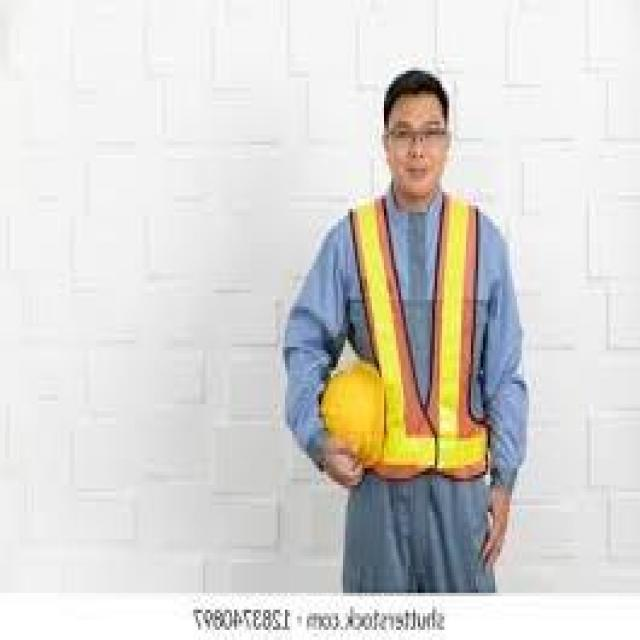NoHelmet: (379, 68, 456, 198)
Vest: (323, 198, 511, 481)
